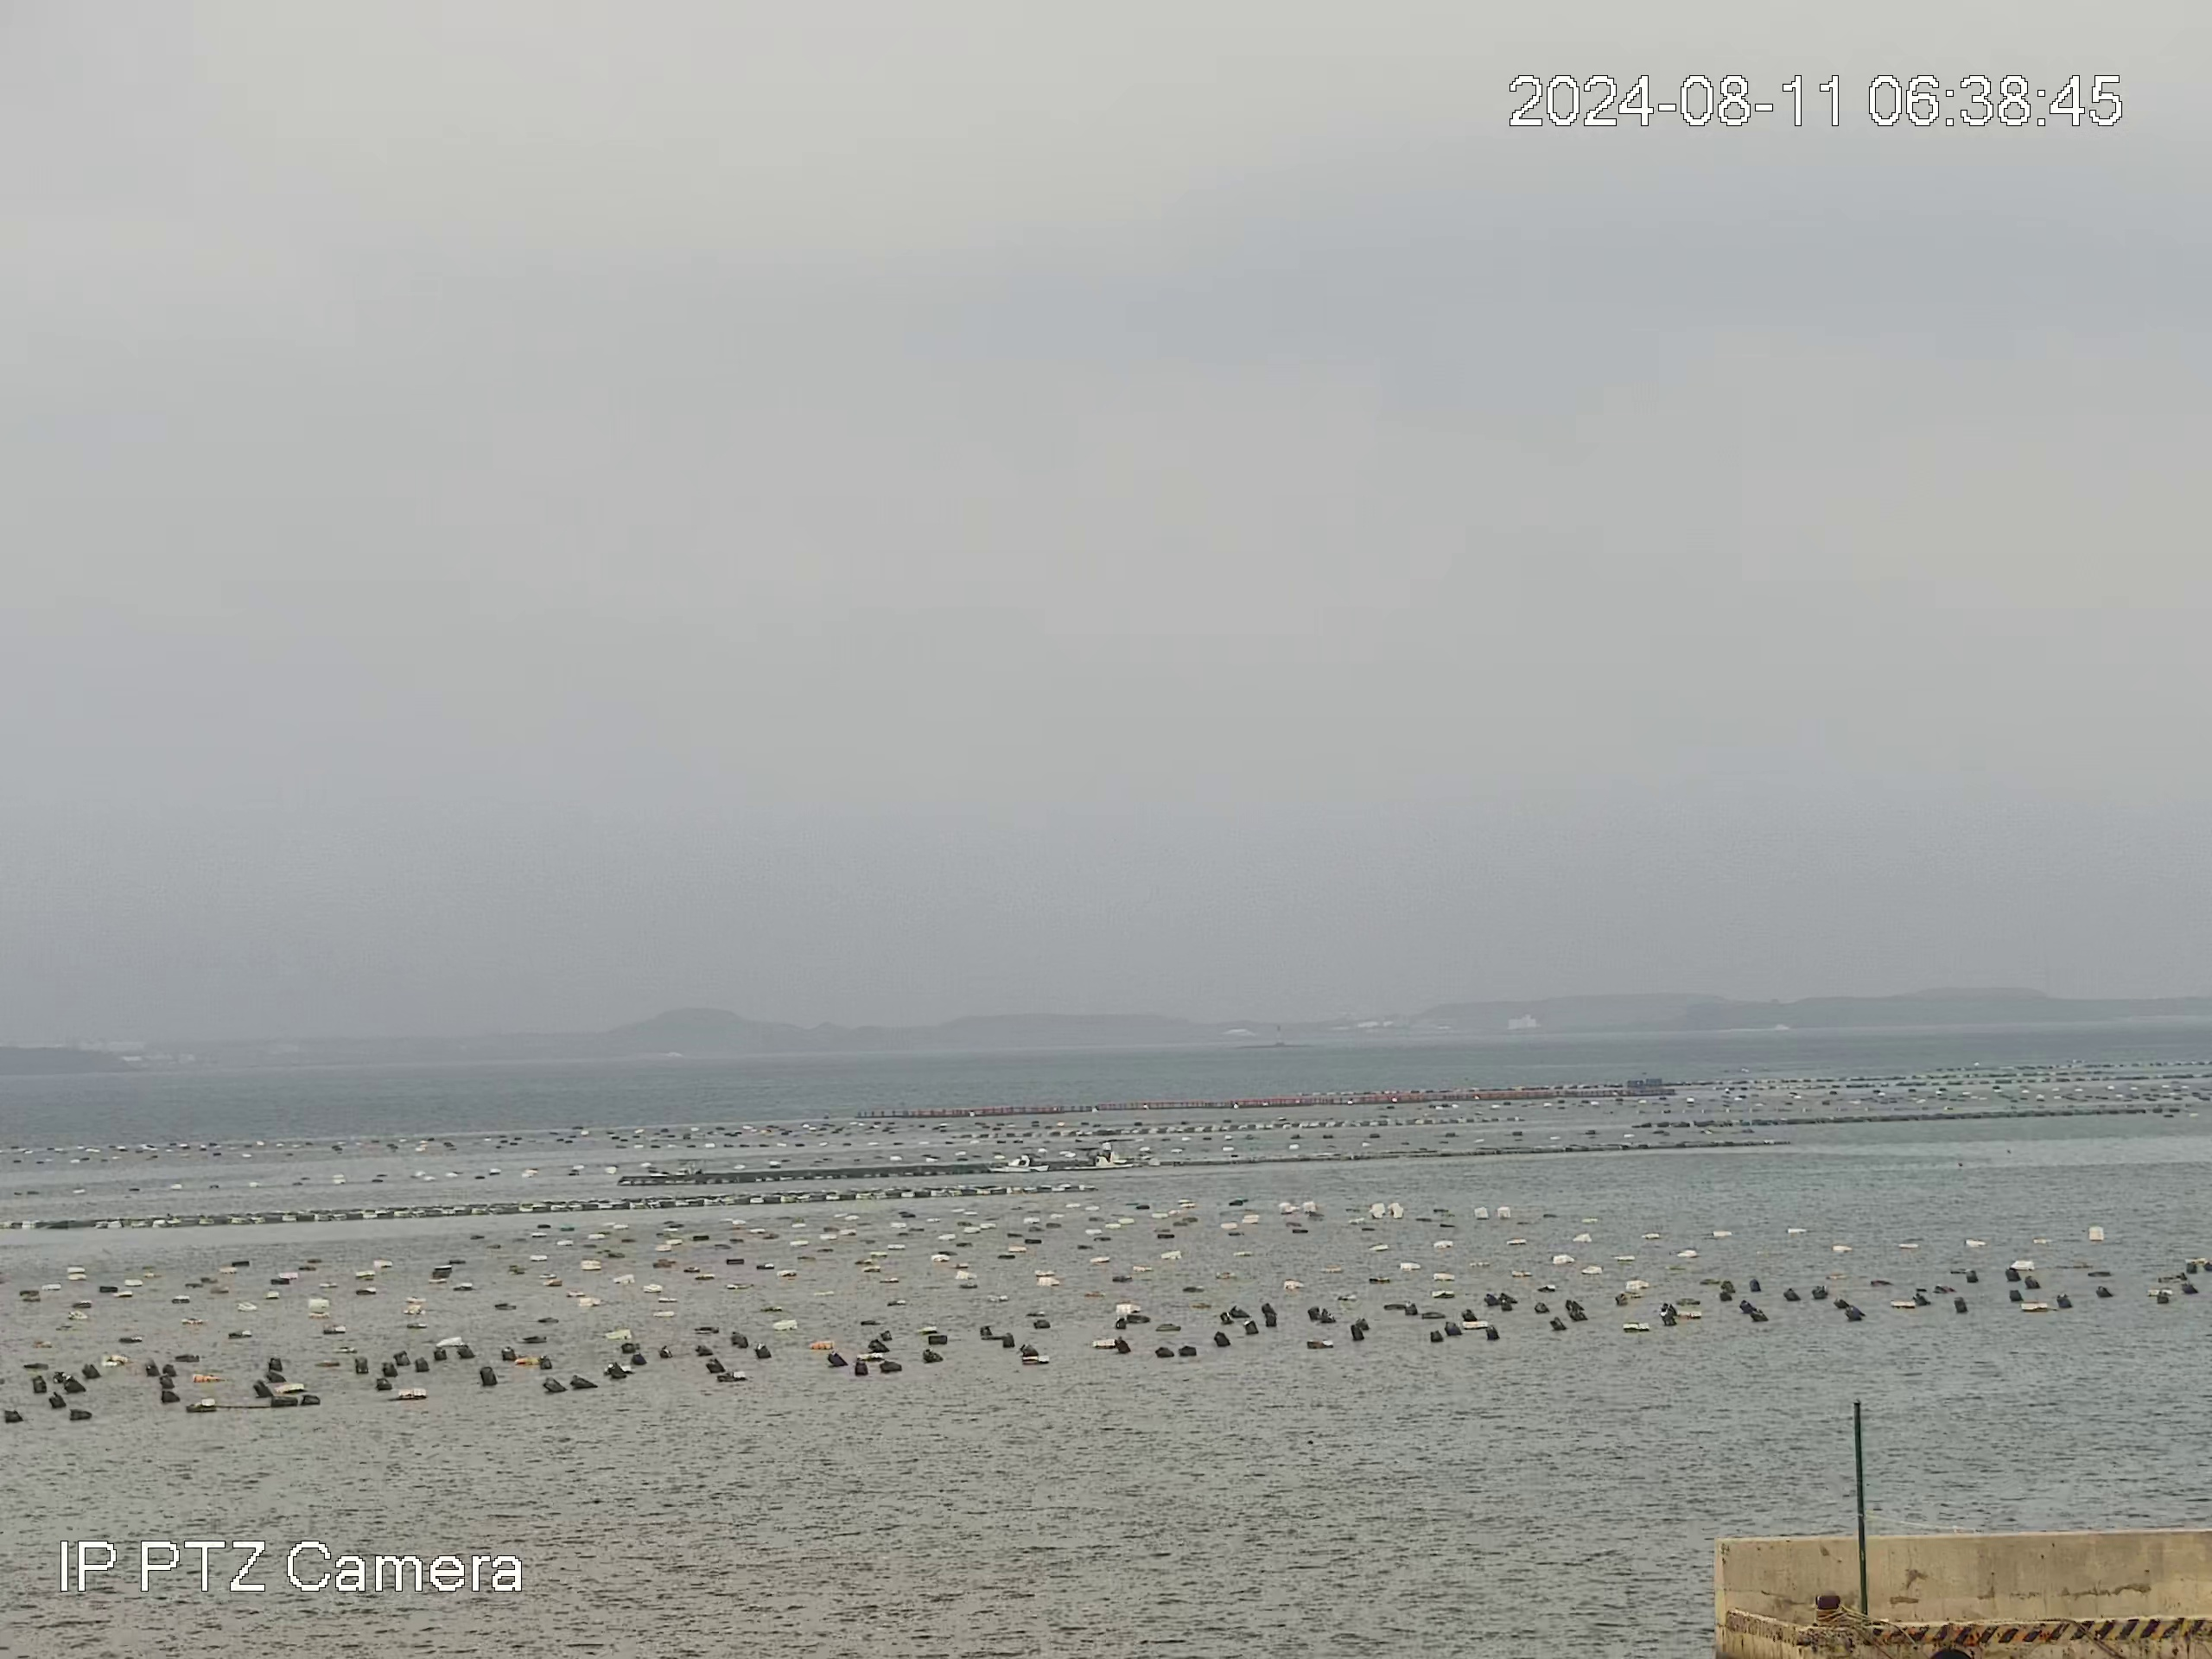boat: (1061, 1141, 1134, 1169), (986, 1152, 1052, 1175)
